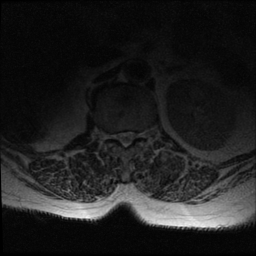CCS_normal: (122, 126, 128, 152)
LFS_stenosis: (136, 126, 143, 145)
LLS_normal: (129, 126, 135, 148)
RFS_stenosis: (109, 126, 116, 146)
RLS_normal: (116, 126, 123, 148)
